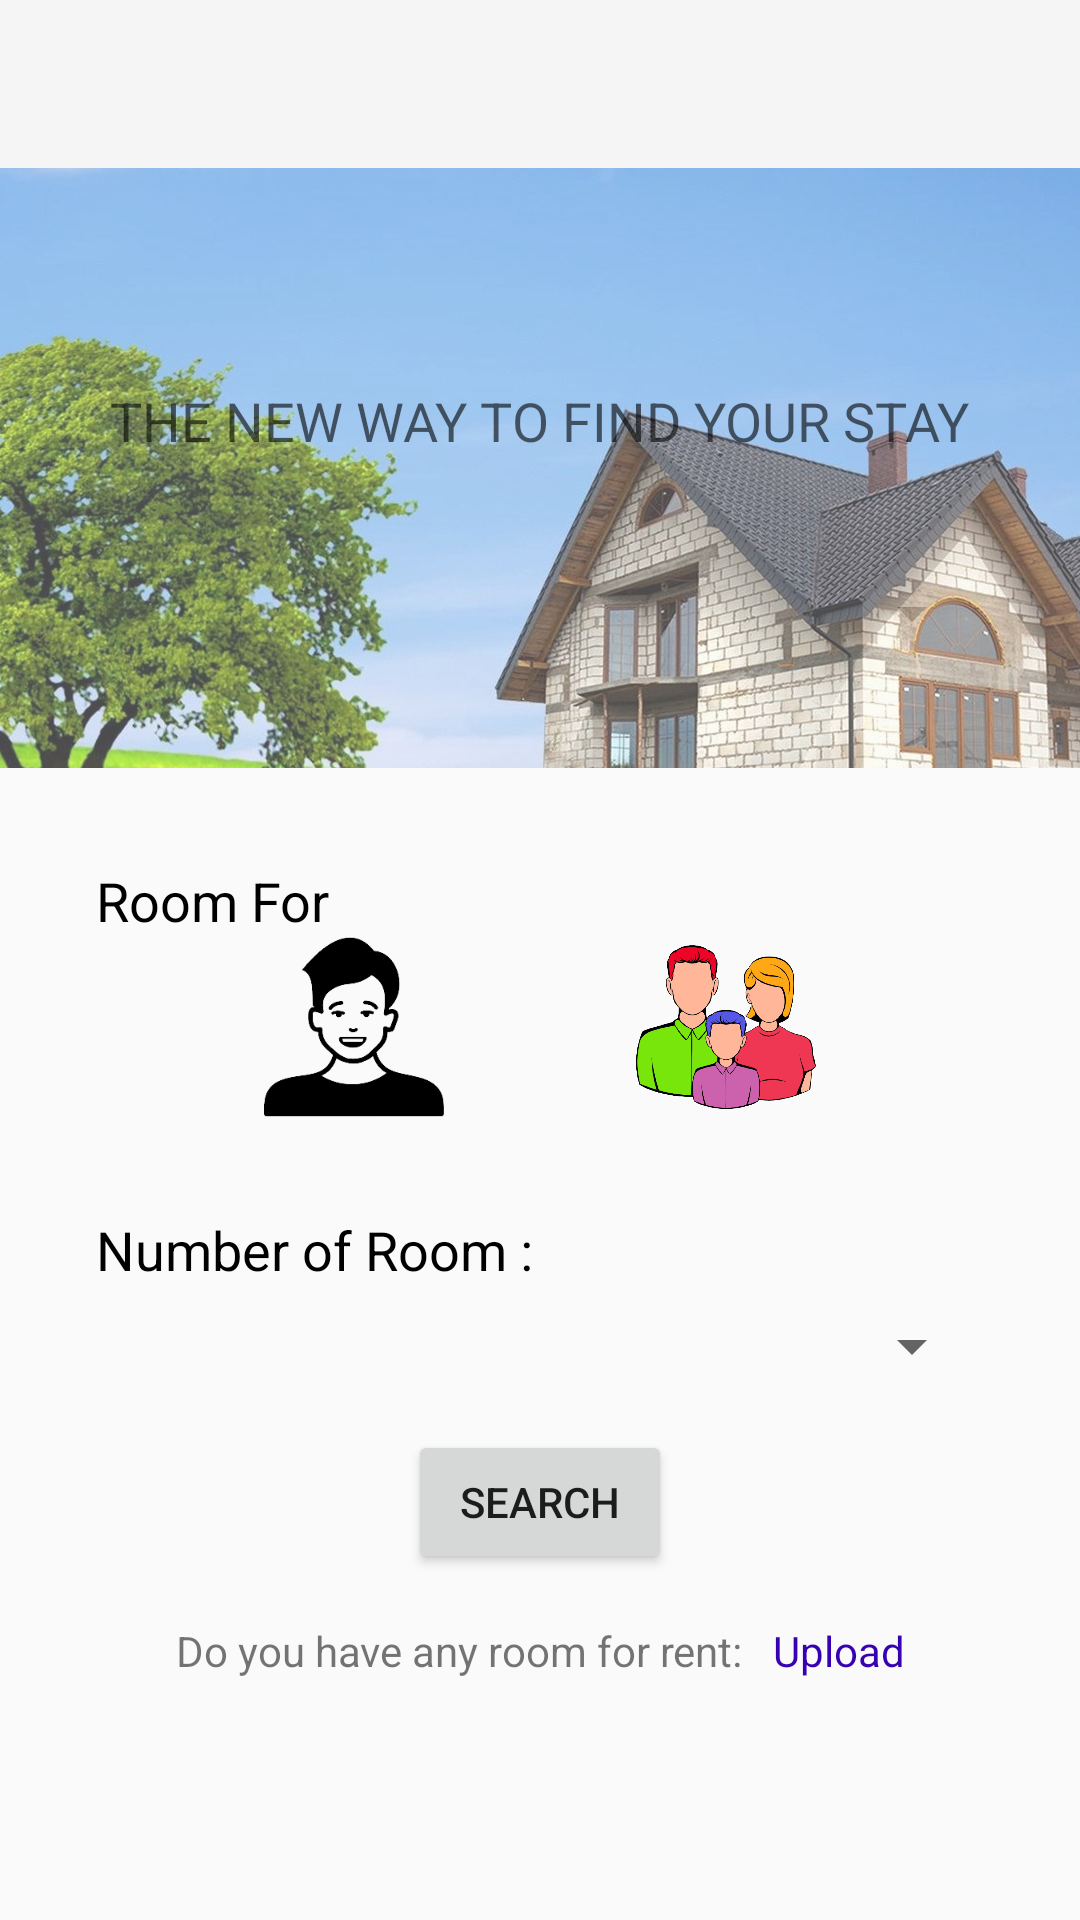

Named icons in this screenshot (1080px×1920px) and their bounding boxes, (x1, y1, x2, y2):
multiple: (636, 945, 816, 1109)
single: (264, 937, 444, 1117)
